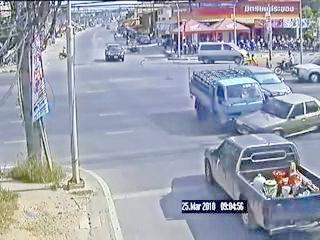Car: (184, 63, 266, 129), (238, 100, 320, 140)
Major Accident: (186, 68, 320, 137)
